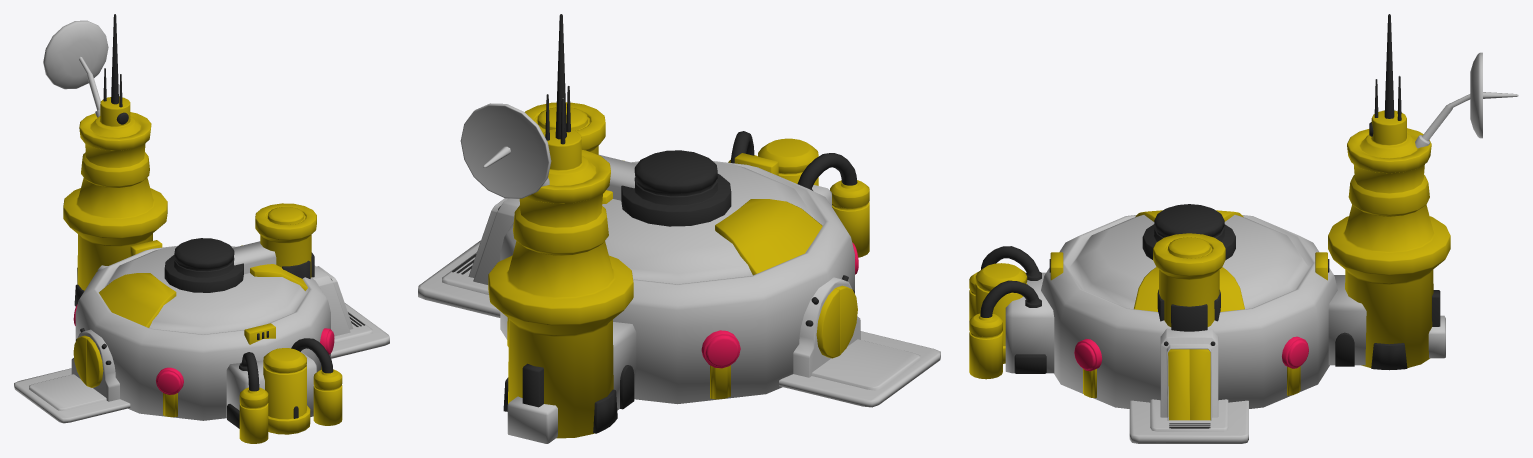
3 views of the same model, side by side, from view 1: azimuth 30°, elevation 25°; view 2: azimuth 150°, elevation 25°; view 3: azimuth 270°, elevation 25° (orthographic). The views are drawn at different scales.
Visible parts, largest first — view 1: Main_house_3lv.001; view 2: Main_house_3lv.001; view 3: Main_house_3lv.001.
Boxes of the visible parts, left/top/right/bottom form: Main_house_3lv.001: left=14, top=14, right=389, bottom=443; Main_house_3lv.001: left=418, top=14, right=940, bottom=443; Main_house_3lv.001: left=969, top=14, right=1518, bottom=443.
Bounding box in the file's own units: 20.7 × 17.38 × 25.62.
